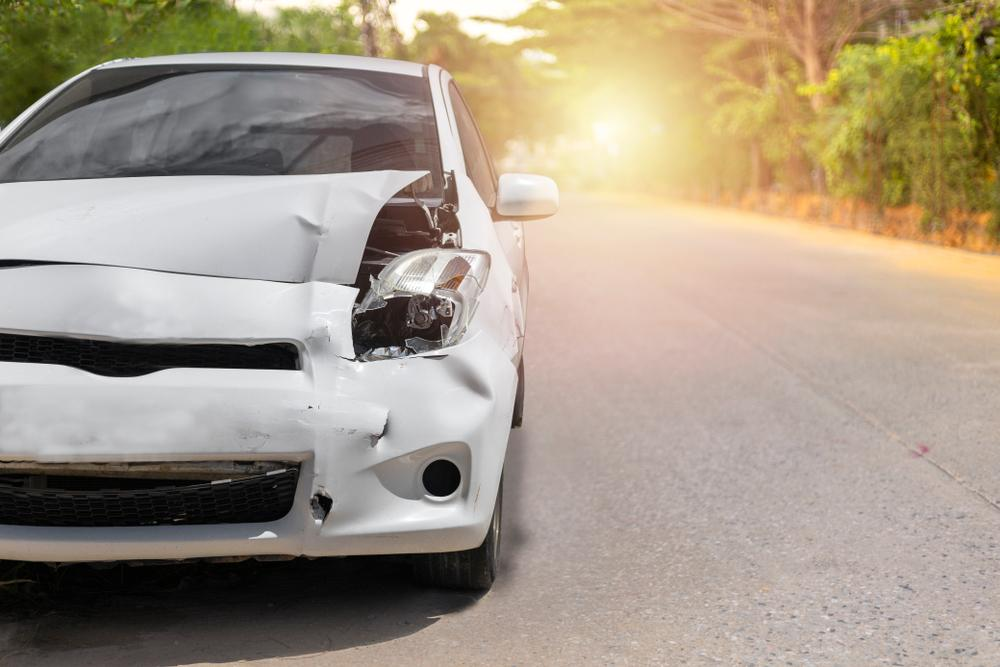crack: (311, 490, 333, 526), (370, 412, 392, 445), (334, 353, 358, 363)
dent: (130, 177, 377, 280), (391, 356, 490, 442)
lamp broken: (357, 249, 491, 362)
